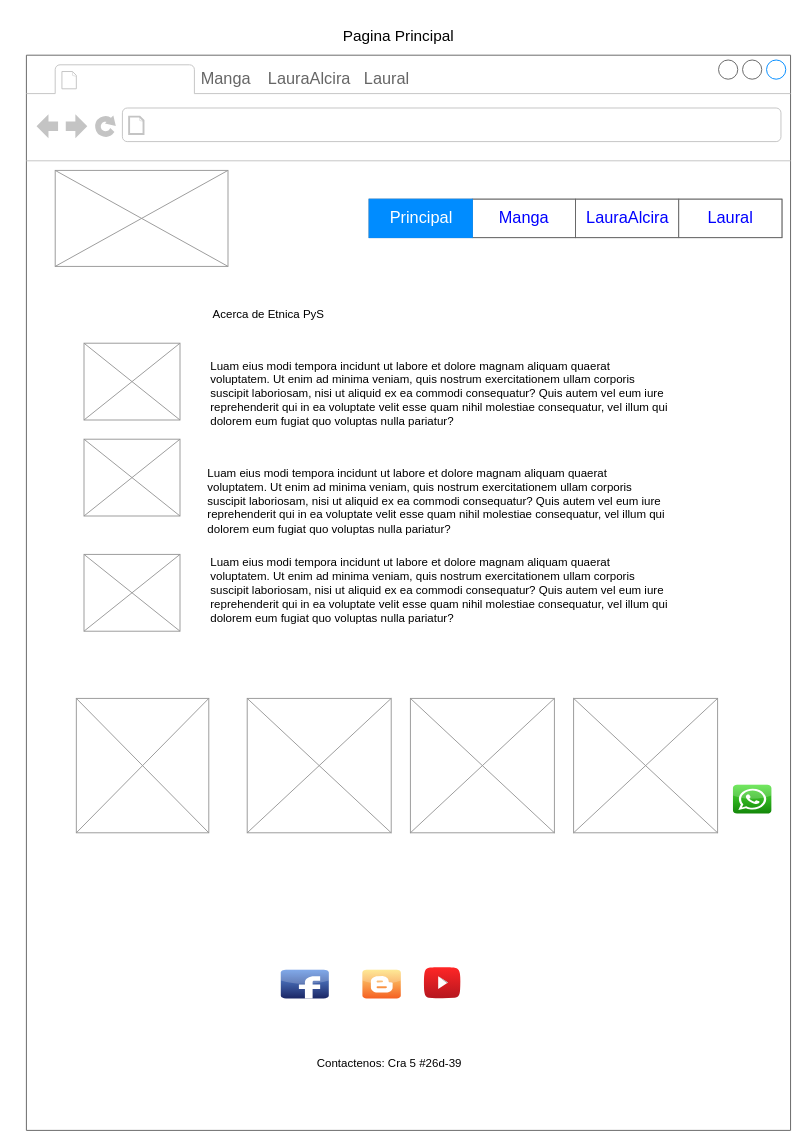
Some shapes in this 807 by 1147 pixel diagram are drawn without their labels. The centre of each missing label's shape, as x and y in pixels:
Etnica P&S: the point at 136,79
https://www.etnicapys.org: the point at 270,125
LOGO: the point at 141,217
